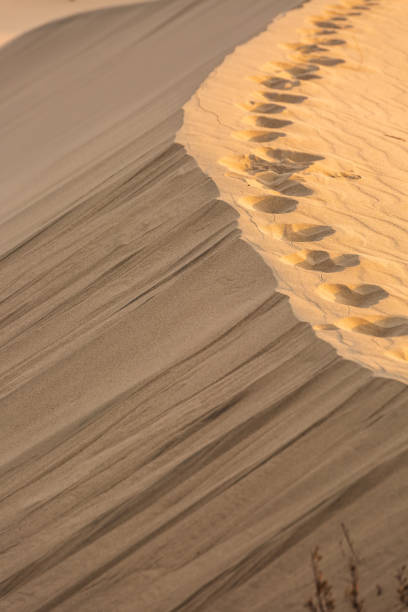animal_foot_print: (221, 154, 306, 192), (280, 249, 359, 272), (317, 283, 387, 307), (335, 316, 407, 337), (260, 223, 334, 241), (268, 149, 322, 172), (258, 173, 312, 195), (238, 195, 297, 214), (234, 130, 284, 141), (289, 61, 318, 78), (266, 92, 305, 103), (261, 78, 294, 89), (249, 103, 284, 113), (317, 29, 335, 38)
